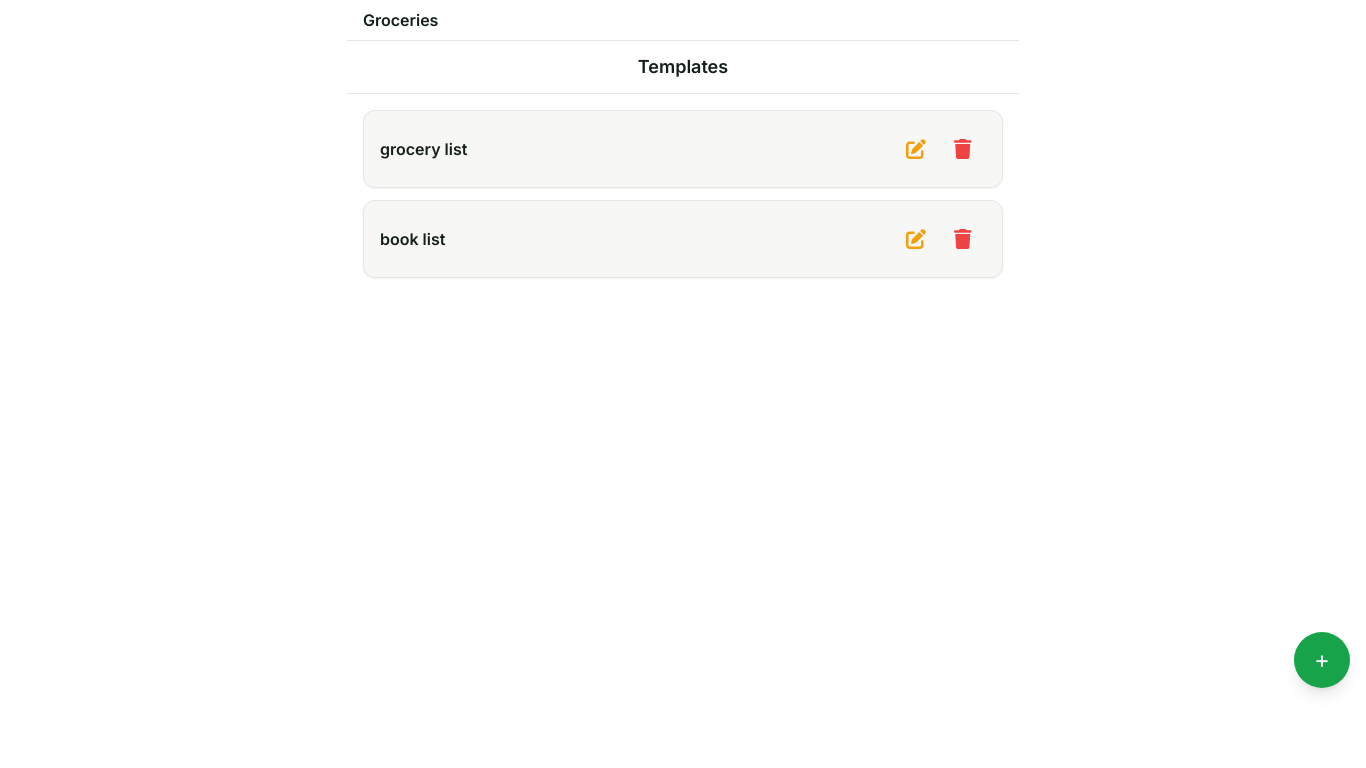
Test: TemplatesContainer › creates a template from the create modal (name + default field)
Click the button with test id "templates-create-fab". click: {"x": 1322, "y": 660}
box: [1294,632,1350,688]
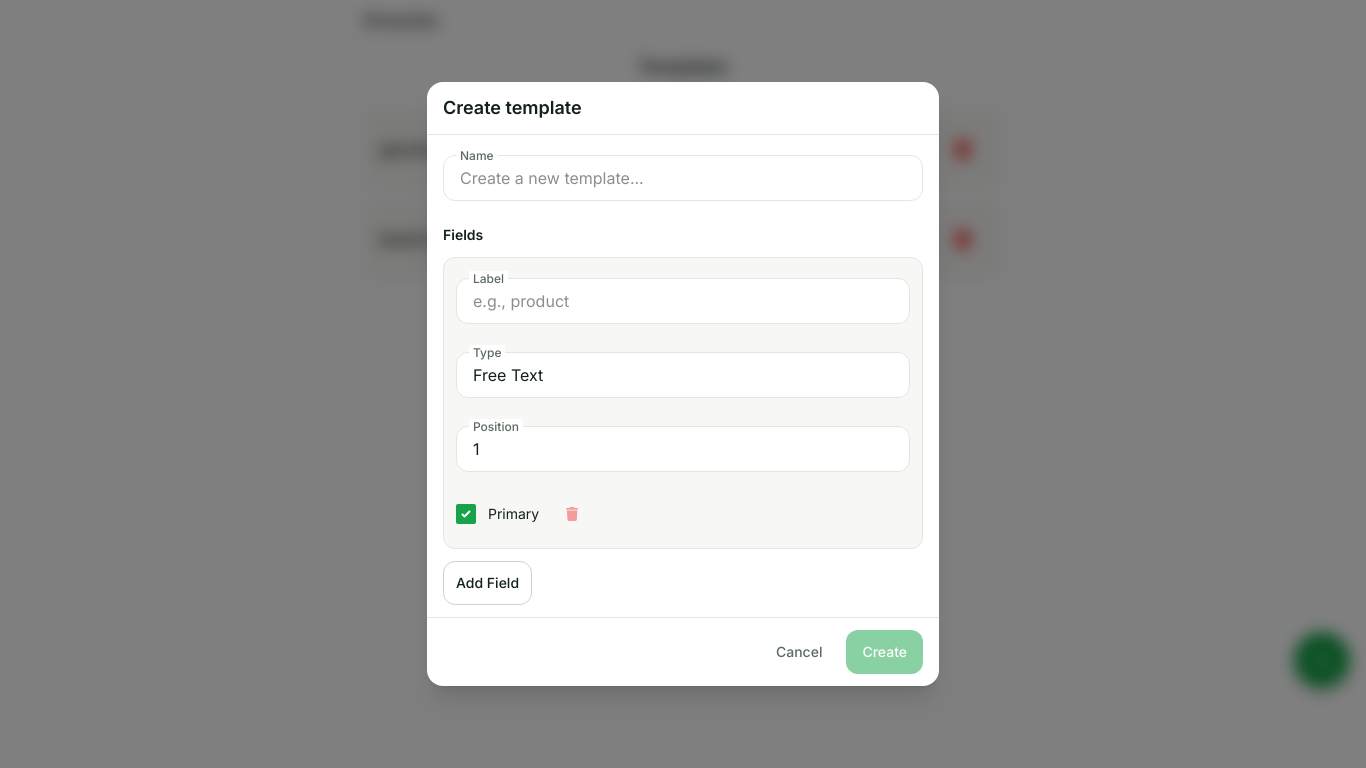
Expected: the element with test id "create-template-modal" is shown, [427,82,939,686]
Click the field with test id "create-template-name-input". click: {"x": 683, "y": 178}
box: [444,156,922,200]
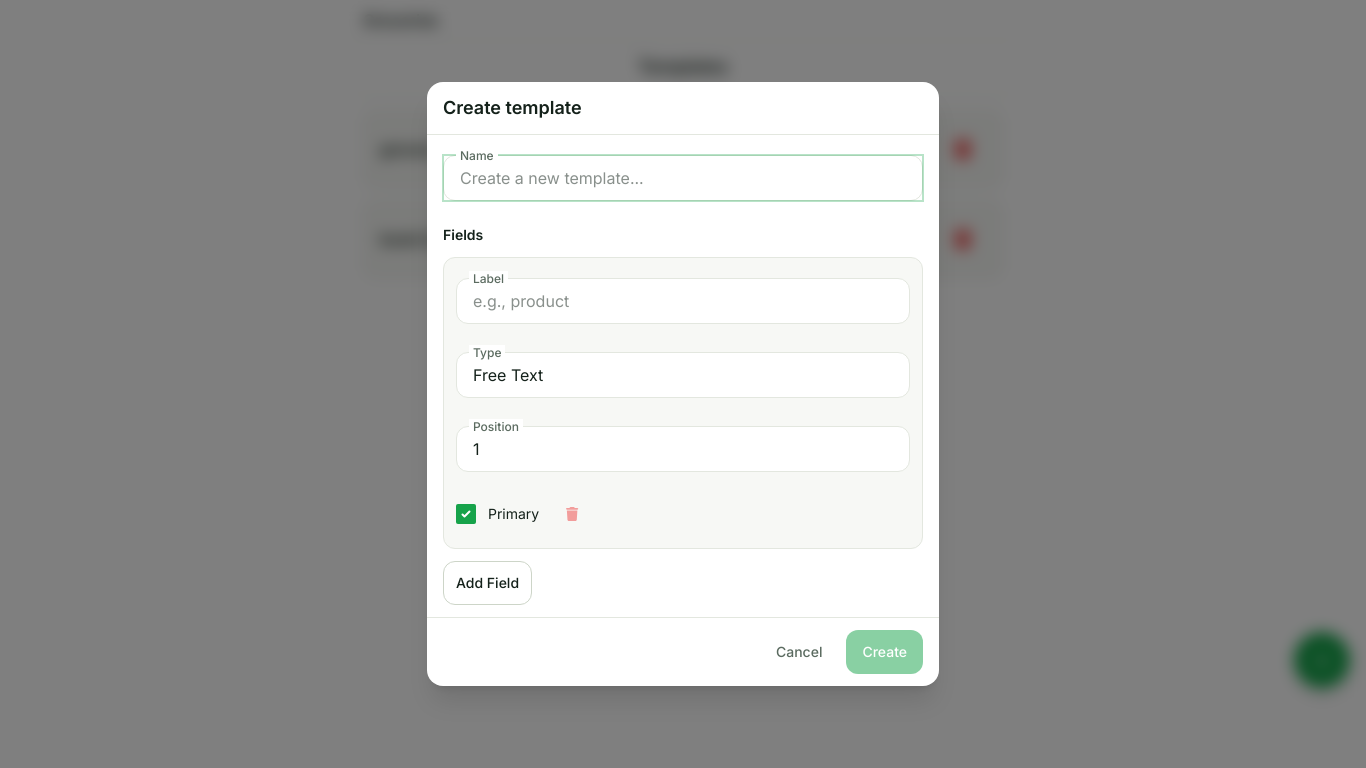
Type keys "new template"
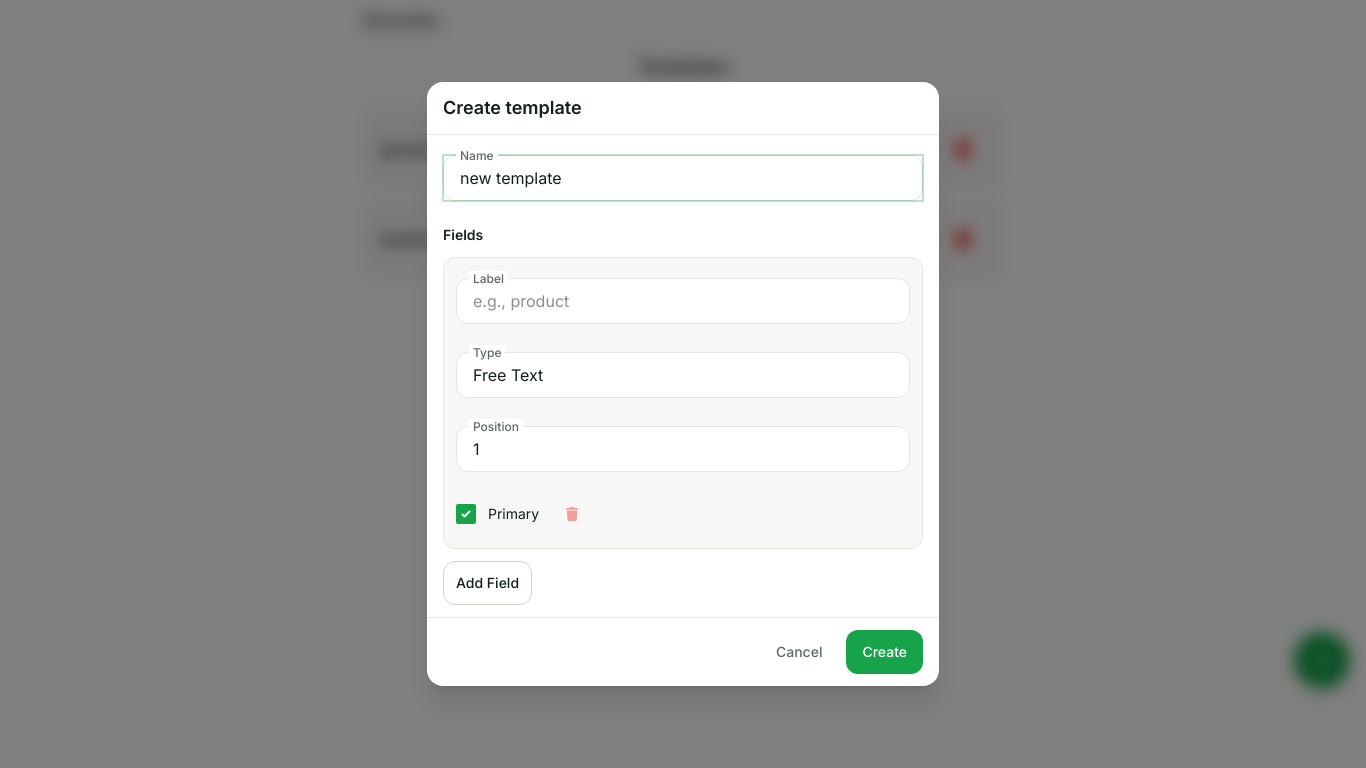
Click the button with test id "create-template-submit". click: {"x": 885, "y": 652}
box: [846,630,923,674]
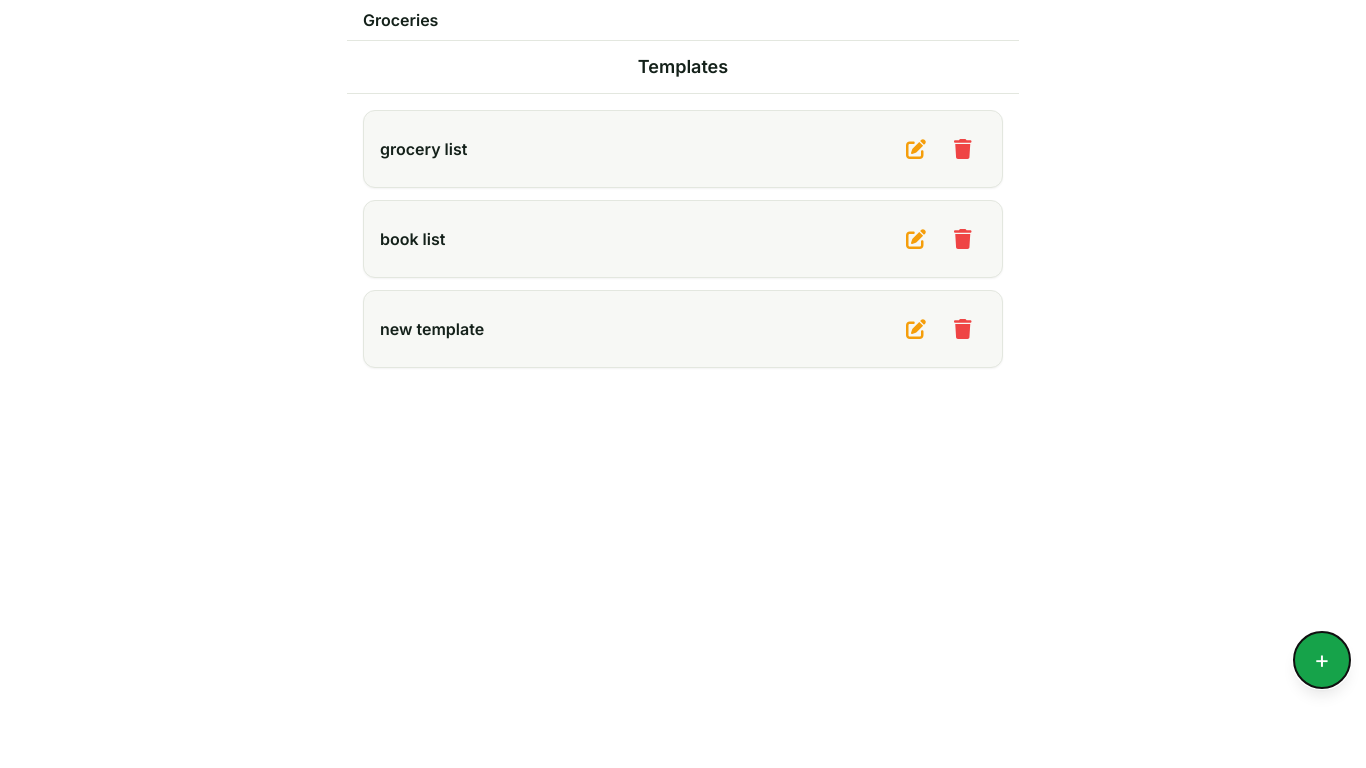
Expected: the element with test id "template-id3" is shown, [363,290,1003,368]
Expected: the element with test id "create-template-modal" is gone
